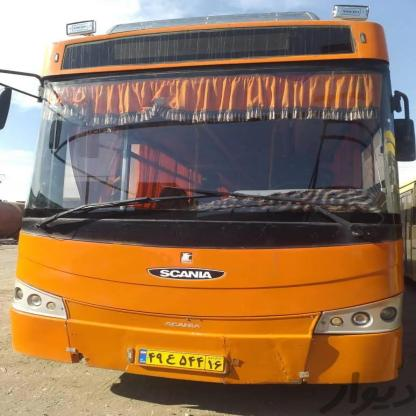Bus: (0, 0, 416, 378)
